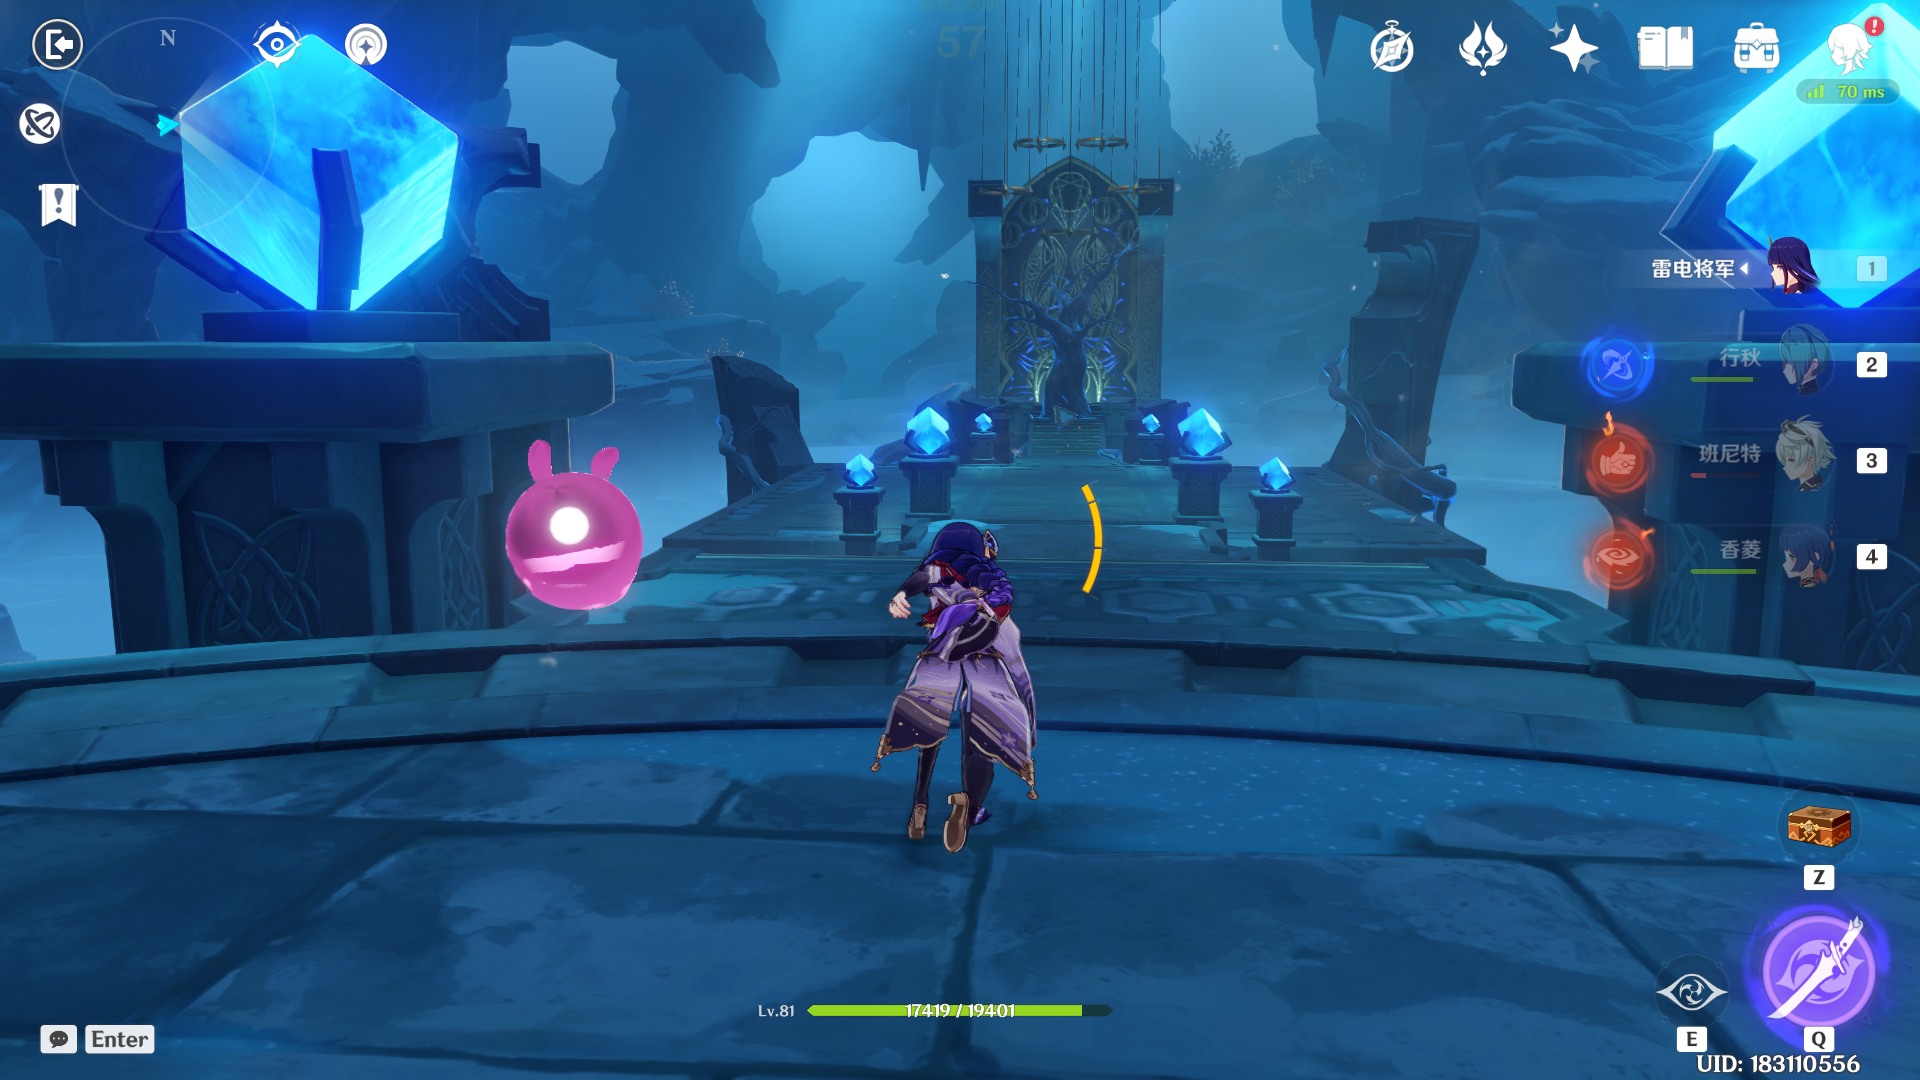character: (783, 436, 1122, 919)
